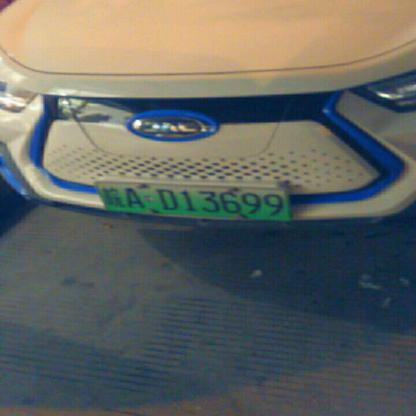lp: (94, 180, 290, 222)
